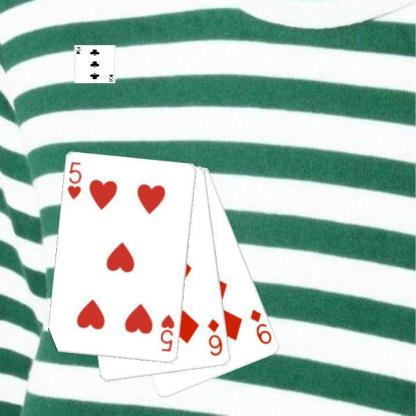5H: (158, 312, 176, 353), (65, 160, 83, 201)
6D: (205, 316, 224, 358)
9D: (248, 307, 273, 346)
